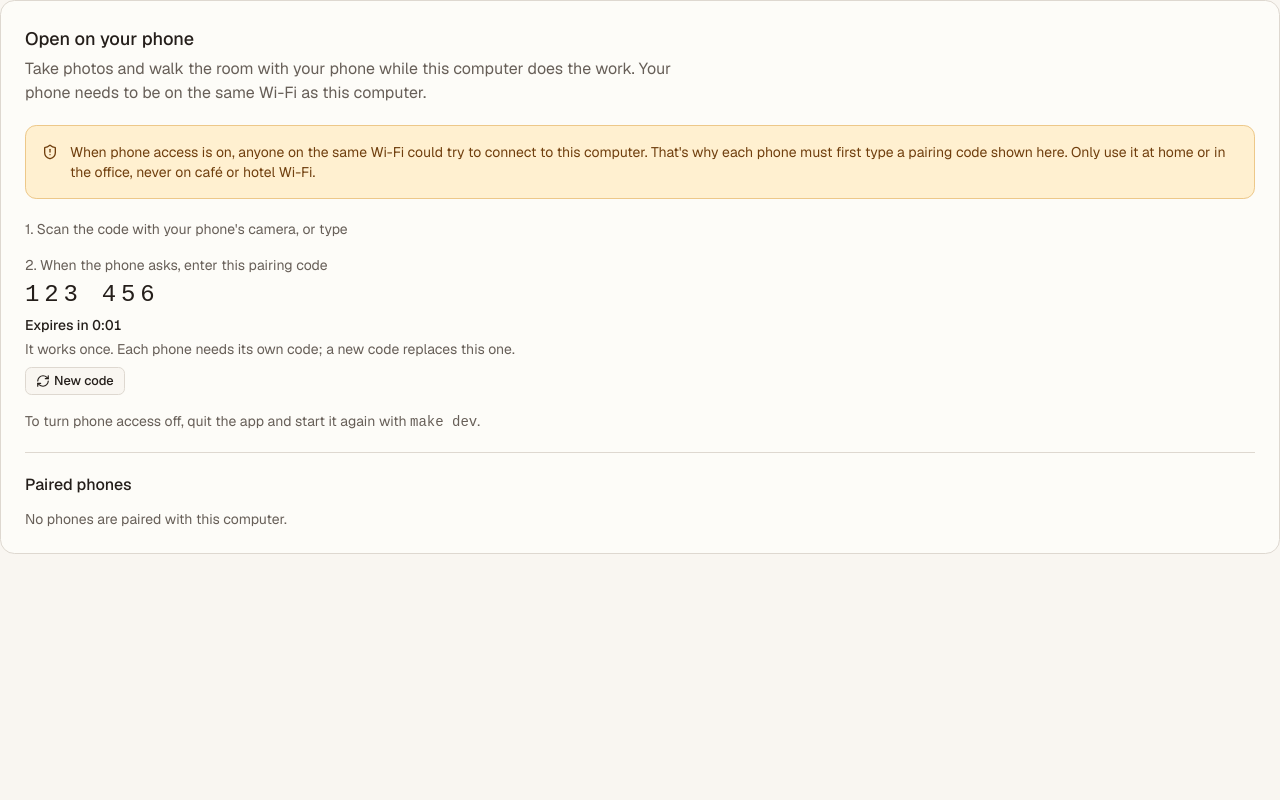
Test: does not fetch at expiry while a new code is pending
Later steps or results of the test are not shown.
Expected: the text with test id "pairing-code" reads "123 456", [25, 281, 159, 308]
Step 1. Click the button "New code" → (75, 381), box [25, 367, 125, 395]
Wait 1270 ms
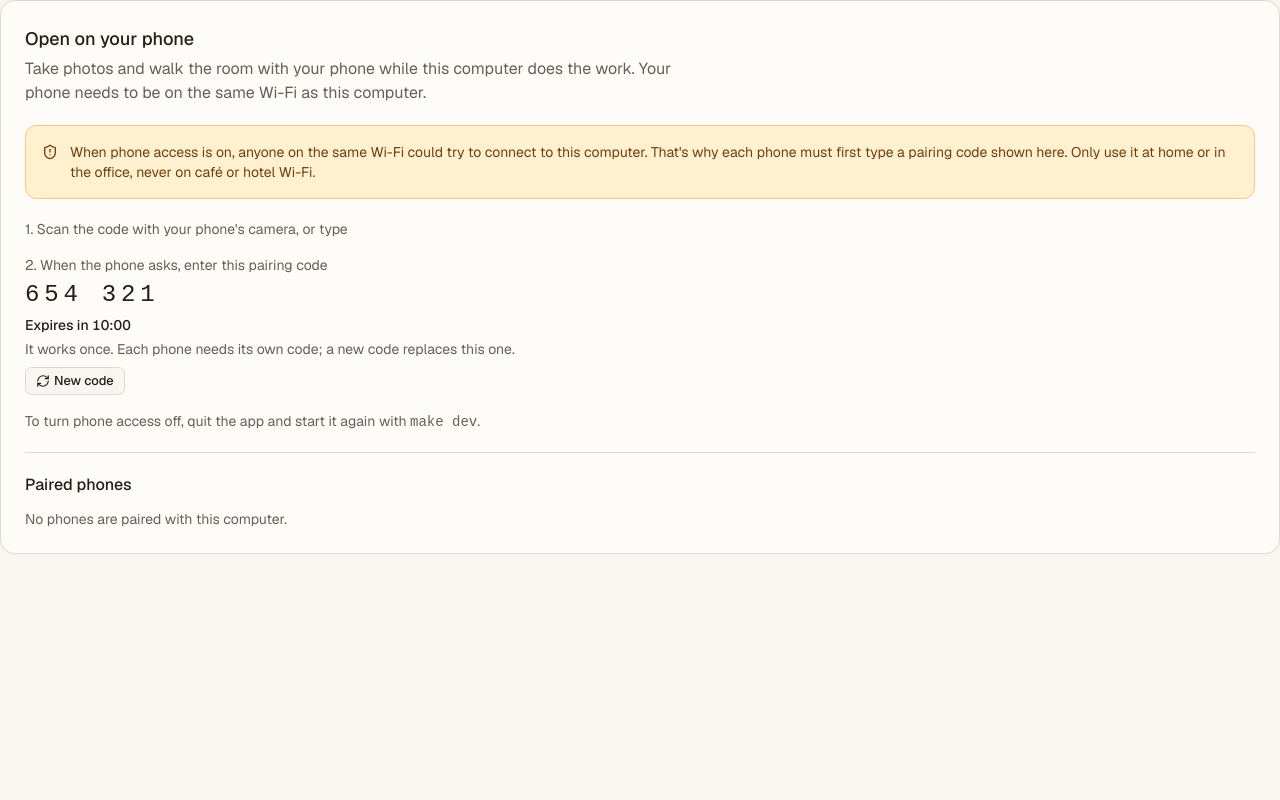
Result: the text with test id "pairing-code" reads "654 321" at [25, 281, 159, 308]
